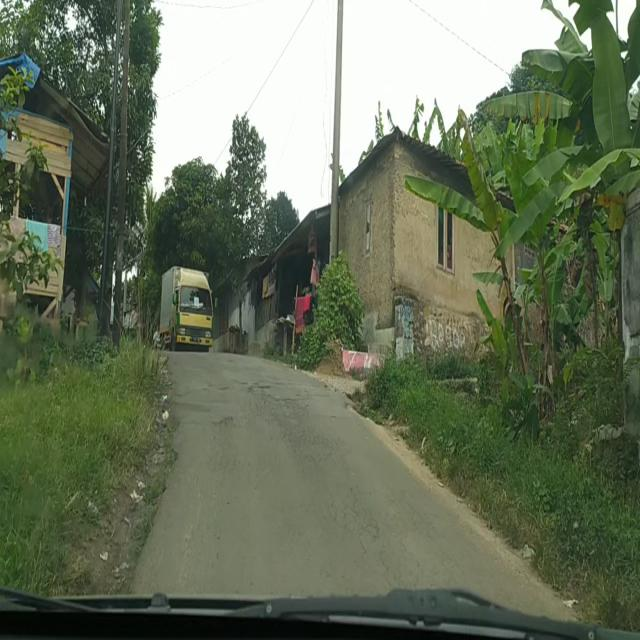Drain Hole: (251, 384, 337, 468), (202, 419, 242, 472)
